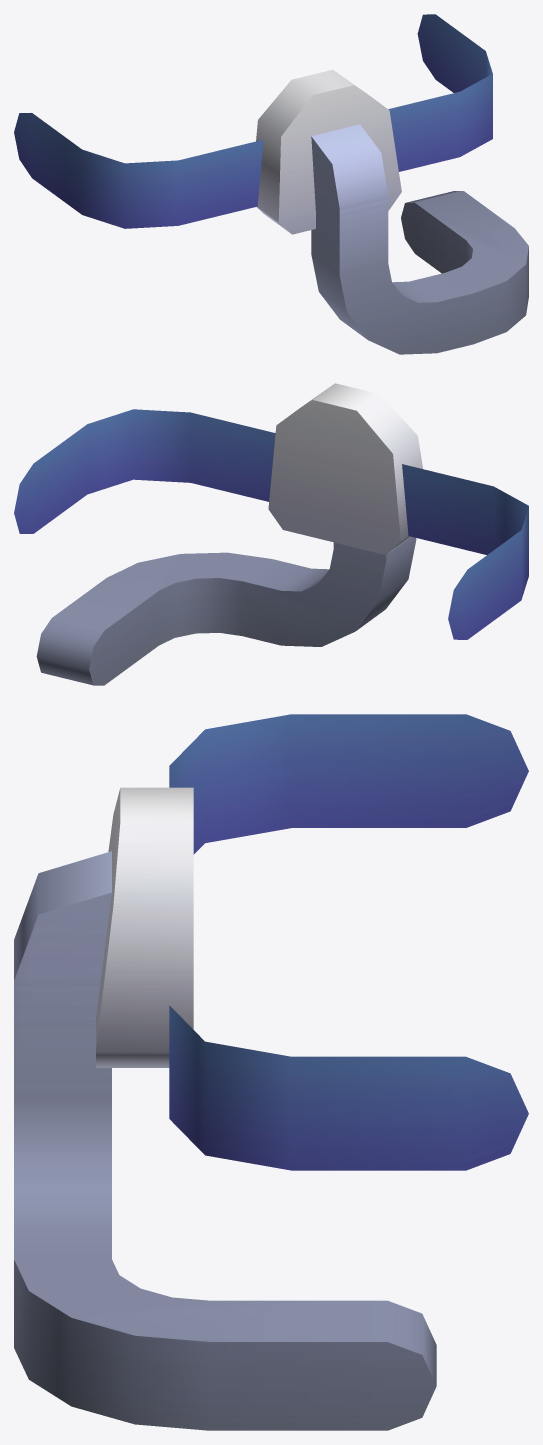
Rendered from kenney-mini-characters-aid-mask.glb.
The picture shows the model from 3 angles, top to bottom: view 1: azimuth 30°, elevation 25°; view 2: azimuth 150°, elevation 25°; view 3: azimuth 270°, elevation 25°; orthographic projection. The views are drawn at different scales.
Parts seen in each view (by area): view 1: aid-mask; view 2: aid-mask; view 3: aid-mask.
Part boxes in pixels (bbox=[...]): aid-mask: bbox=[14, 14, 528, 354]; aid-mask: bbox=[14, 383, 528, 685]; aid-mask: bbox=[14, 714, 528, 1430].
Bounding box in the file's own units: 0.3355 × 0.2026 × 0.2103.
1 material, 1 textured.
